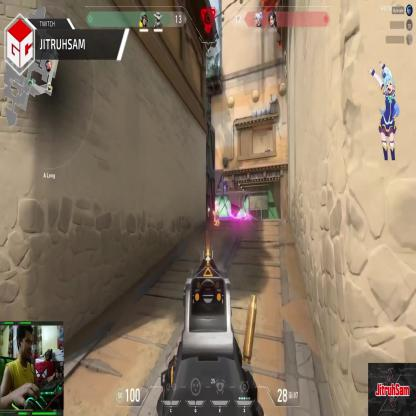enemy: (213, 199, 220, 230)
enemy_head: (215, 201, 218, 207)
